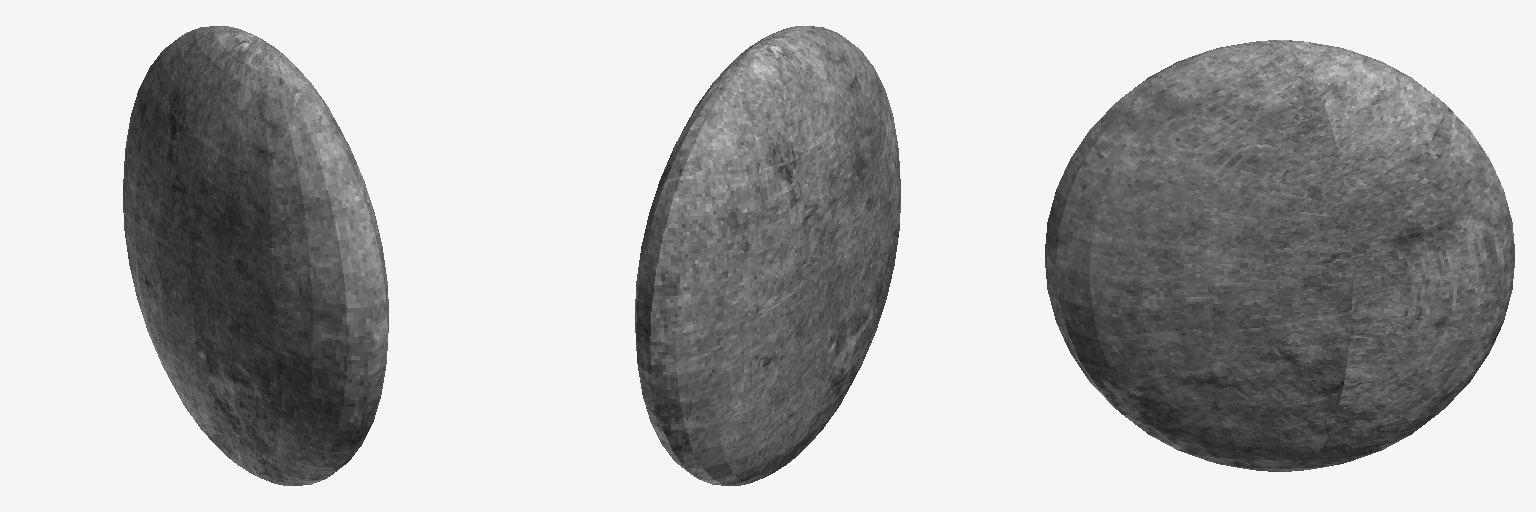
3 renders of one model, left to right at view 1: azimuth 30°, elevation 25°; view 2: azimuth 150°, elevation 25°; view 3: azimuth 270°, elevation 25°, orthographic.
Visible parts, largest first — view 1: Moto.029; view 2: Moto.029; view 3: Moto.029.
Boxes of the visible parts, x1=… form: Moto.029: x1=123, y1=26, x2=388, y2=485; Moto.029: x1=635, y1=26, x2=900, y2=485; Moto.029: x1=1045, y1=40, x2=1514, y2=471.
Size of the model in its own units: 0.7229 by 2.28 by 2.28.
1 materials, 1 textured.